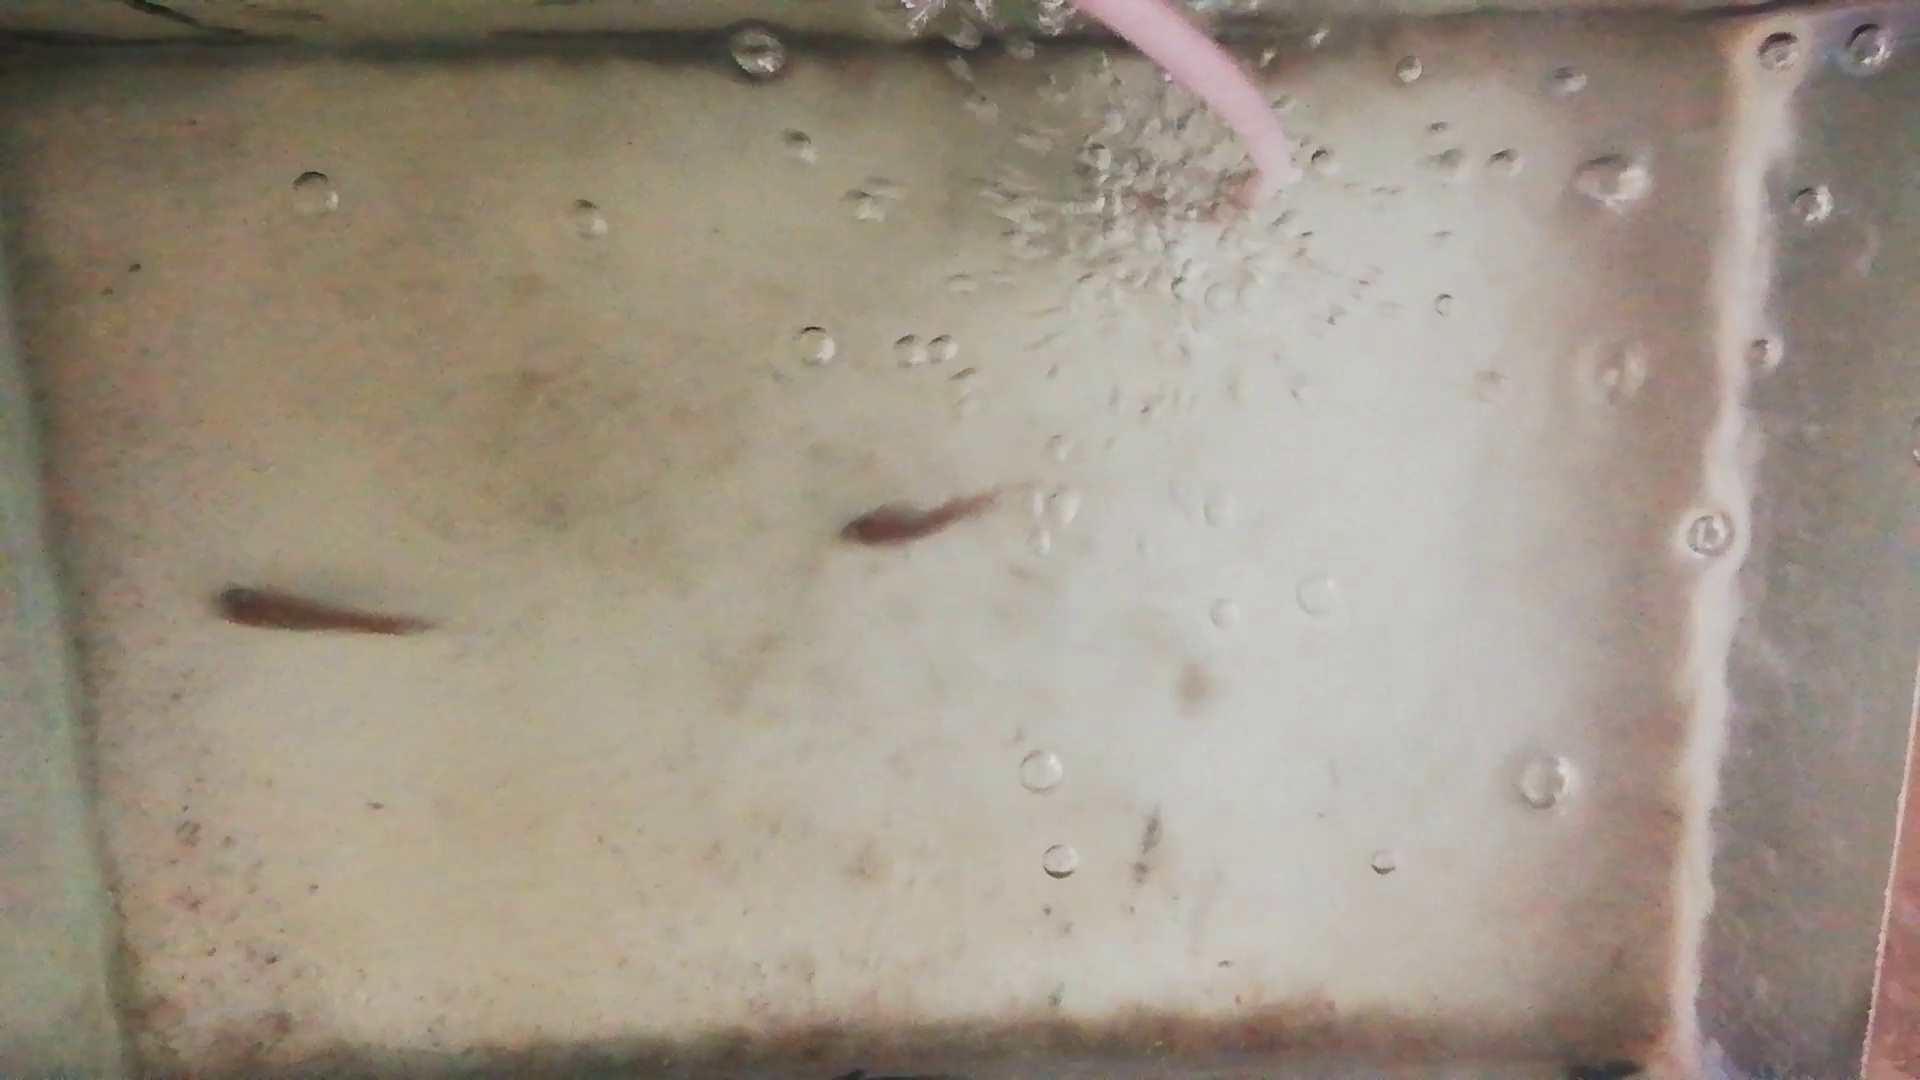fish: (208, 588, 433, 638), (843, 491, 992, 547)
